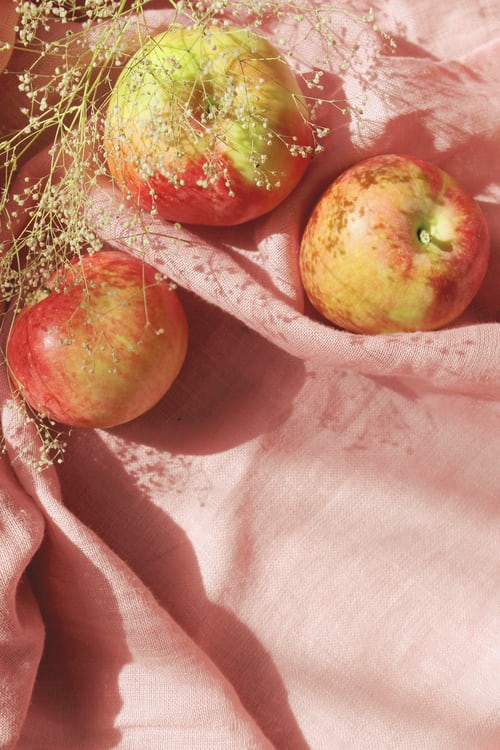apple: (96, 21, 317, 226), (299, 150, 490, 337), (5, 250, 194, 431)
